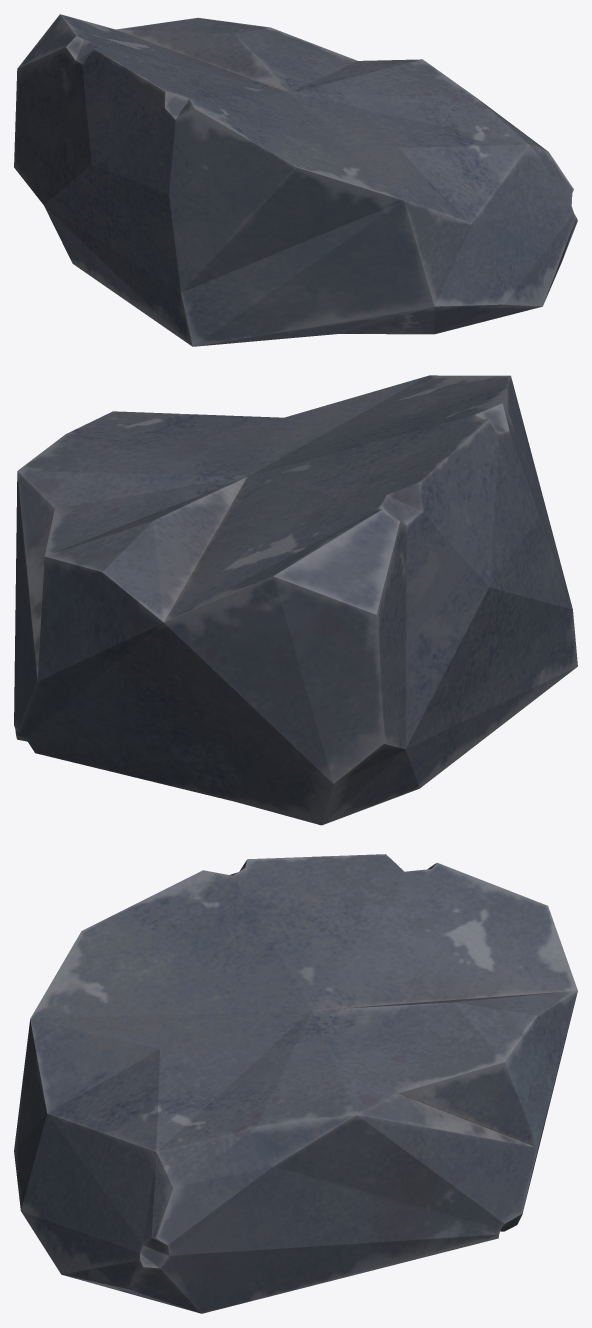
The model's file is pedra_d.glb.
3 renders of one model, top to bottom at view 1: azimuth 30°, elevation 25°; view 2: azimuth 150°, elevation 25°; view 3: azimuth 270°, elevation 25°, orthographic. The views are drawn at different scales.
Visible parts, largest first — view 1: Object_70; view 2: Object_70; view 3: Object_70.
Boxes of the visible parts, <box> form: Object_70: <box>14,14,577,346</box>; Object_70: <box>14,375,577,825</box>; Object_70: <box>14,854,577,1313</box>.
Bounding box in the file's own units: 1.65 × 1 × 1.78.
Materials: 1 (1 with a texture image).
